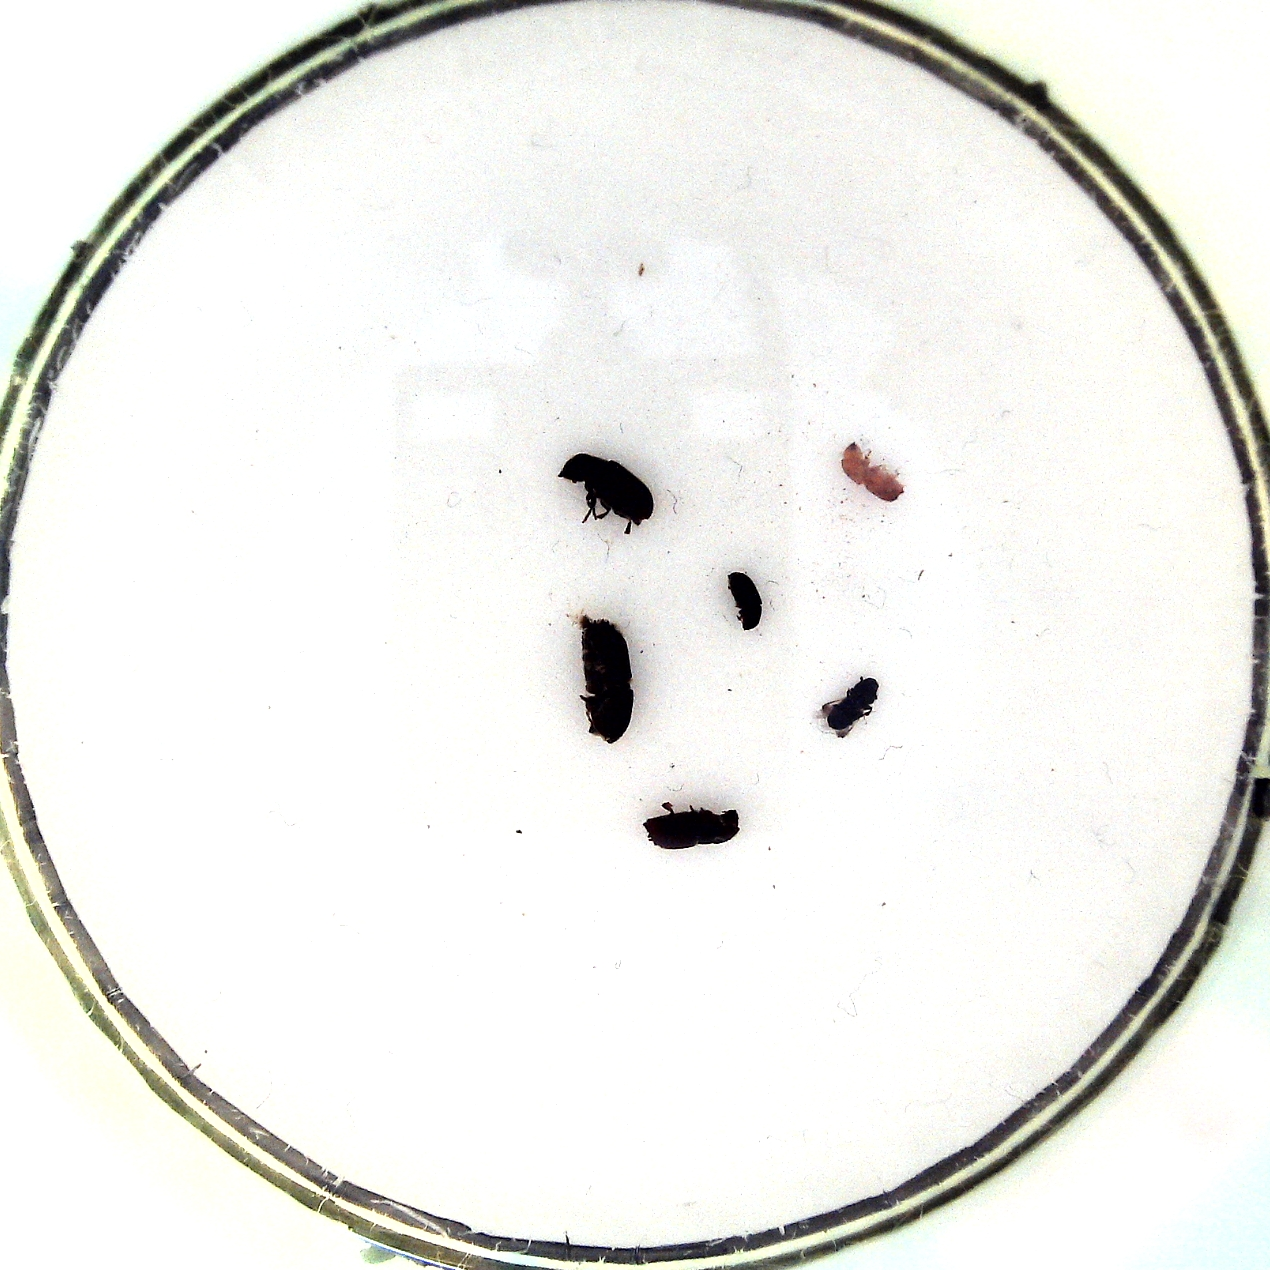Boerner: (563, 605, 640, 744)
Linnaeus: (638, 797, 745, 856)
acuminatus: (837, 433, 912, 511)
armandi: (555, 447, 656, 536)
coleoptera: (809, 670, 884, 744), (722, 565, 769, 633)
